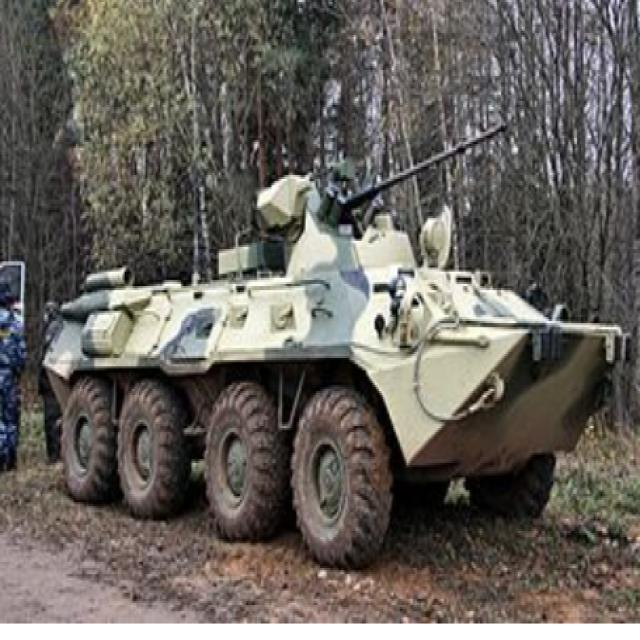MIL_APC: (42, 197, 628, 564)
